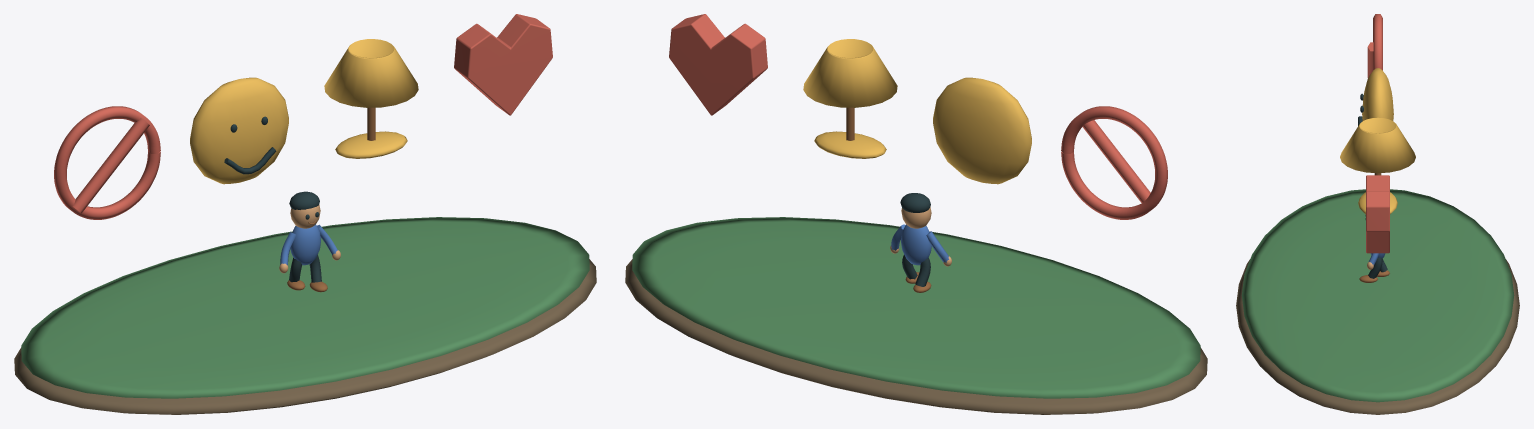
The model's file is complete-first-embarrassed-thought.glb.
The picture shows the model from 3 angles, left to right: view 1: azimuth 30°, elevation 25°; view 2: azimuth 150°, elevation 25°; view 3: azimuth 270°, elevation 25°; orthographic projection. The views are drawn at different scales.
Parts seen in each view (by area): view 1: complete-first-embarrassed-thought_surface_01, complete-first-embarrassed-thought_surface_03, complete-first-embarrassed-thought_surface_02, complete-first-embarrassed-thought_surface_00, complete-first-embarrassed-thought_surface_04, complete-first-embarrassed-thought_surface_07, complete-first-embarrassed-thought_surface_06, complete-first-embarrassed-thought_surface_05; view 2: complete-first-embarrassed-thought_surface_01, complete-first-embarrassed-thought_surface_03, complete-first-embarrassed-thought_surface_02, complete-first-embarrassed-thought_surface_00, complete-first-embarrassed-thought_surface_07, complete-first-embarrassed-thought_surface_04, complete-first-embarrassed-thought_surface_06; view 3: complete-first-embarrassed-thought_surface_01, complete-first-embarrassed-thought_surface_00, complete-first-embarrassed-thought_surface_03, complete-first-embarrassed-thought_surface_02, complete-first-embarrassed-thought_surface_04.
Part boxes in pixels (<box>): complete-first-embarrassed-thought_surface_01: <box>21,217,589,398</box>; complete-first-embarrassed-thought_surface_03: <box>190,39,418,184</box>; complete-first-embarrassed-thought_surface_02: <box>54,14,552,219</box>; complete-first-embarrassed-thought_surface_00: <box>14,259,596,414</box>; complete-first-embarrassed-thought_surface_04: <box>224,116,321,282</box>; complete-first-embarrassed-thought_surface_07: <box>280,224,337,265</box>; complete-first-embarrassed-thought_surface_06: <box>279,204,340,273</box>; complete-first-embarrassed-thought_surface_05: <box>287,107,375,292</box>; complete-first-embarrassed-thought_surface_01: <box>632,217,1200,398</box>; complete-first-embarrassed-thought_surface_03: <box>803,39,1031,184</box>; complete-first-embarrassed-thought_surface_02: <box>669,14,1167,219</box>; complete-first-embarrassed-thought_surface_00: <box>625,259,1207,414</box>; complete-first-embarrassed-thought_surface_07: <box>891,224,948,265</box>; complete-first-embarrassed-thought_surface_04: <box>900,193,930,286</box>; complete-first-embarrassed-thought_surface_06: <box>890,207,951,266</box>; complete-first-embarrassed-thought_surface_01: <box>1241,189,1514,402</box>; complete-first-embarrassed-thought_surface_00: <box>1236,259,1519,414</box>; complete-first-embarrassed-thought_surface_03: <box>1340,68,1415,214</box>; complete-first-embarrassed-thought_surface_02: <box>1366,14,1389,253</box>; complete-first-embarrassed-thought_surface_04: <box>1358,93,1387,278</box>.
Size of the model in its own units: 4.56 by 2.16 by 2.5.
